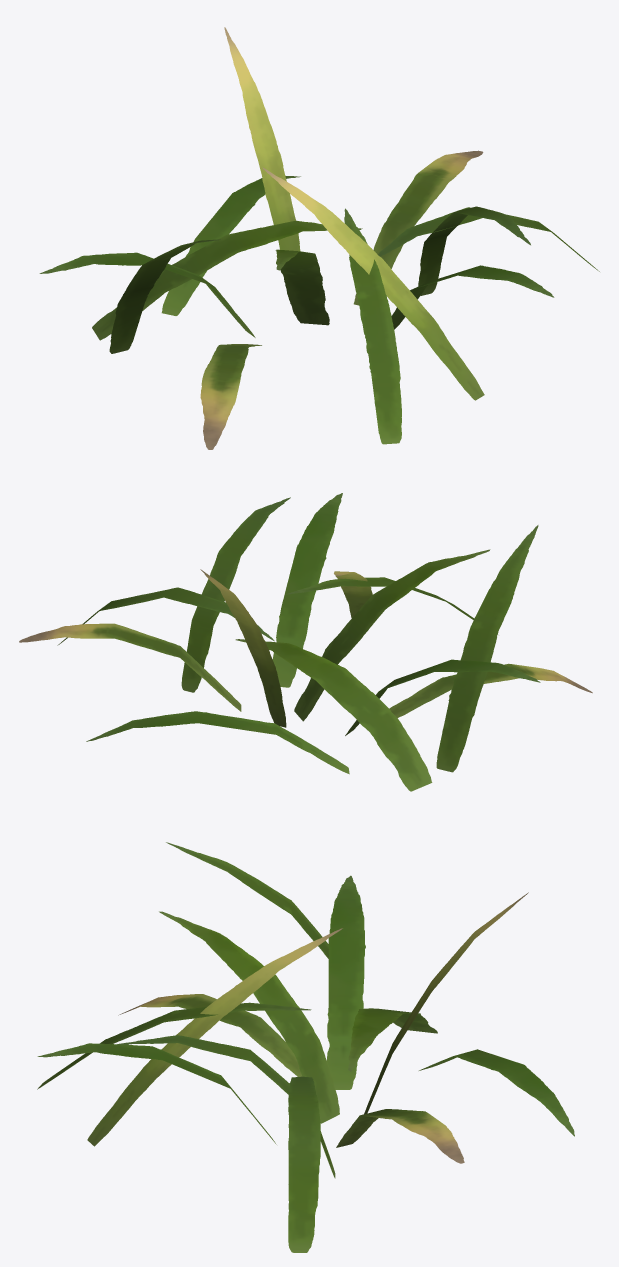
The model's file is Plant5.fbx.
3 renders of one model, top to bottom at view 1: azimuth 30°, elevation 25°; view 2: azimuth 150°, elevation 25°; view 3: azimuth 270°, elevation 25°, orthographic. The views are drawn at different scales.
Parts seen in each view (by area): view 1: leaves; view 2: leaves; view 3: leaves.
Part boxes in pixels (x1,y1,x2,y2): leaves: (39, 27, 599, 449); leaves: (19, 493, 592, 791); leaves: (37, 842, 574, 1252).
Size of the model in its own units: 102 by 41.75 by 93.19.
